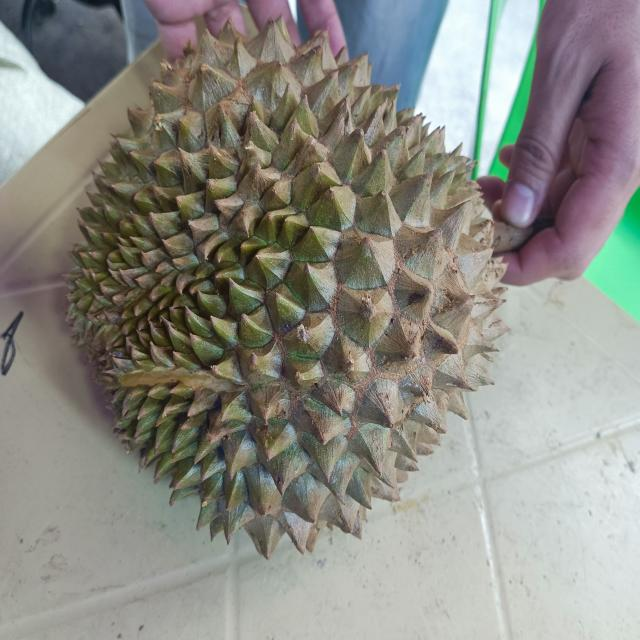defective: (56, 12, 505, 558)
